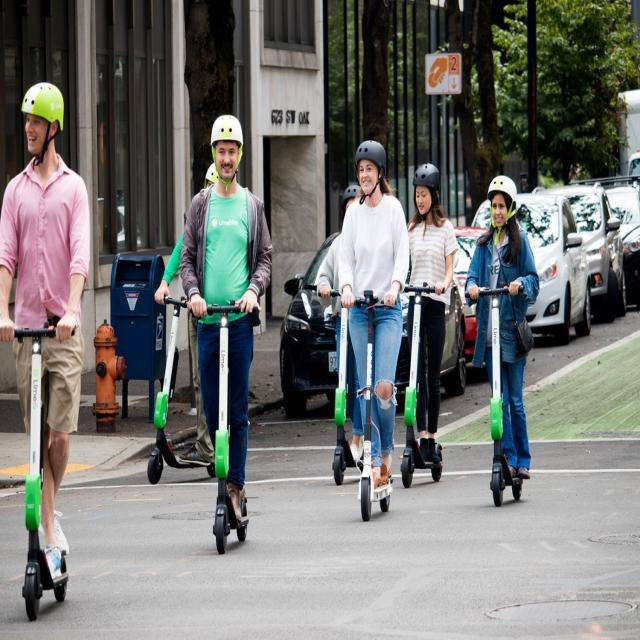helmet: (2, 60, 118, 639), (162, 90, 286, 570), (309, 110, 404, 544), (464, 165, 540, 511), (396, 149, 467, 483)
